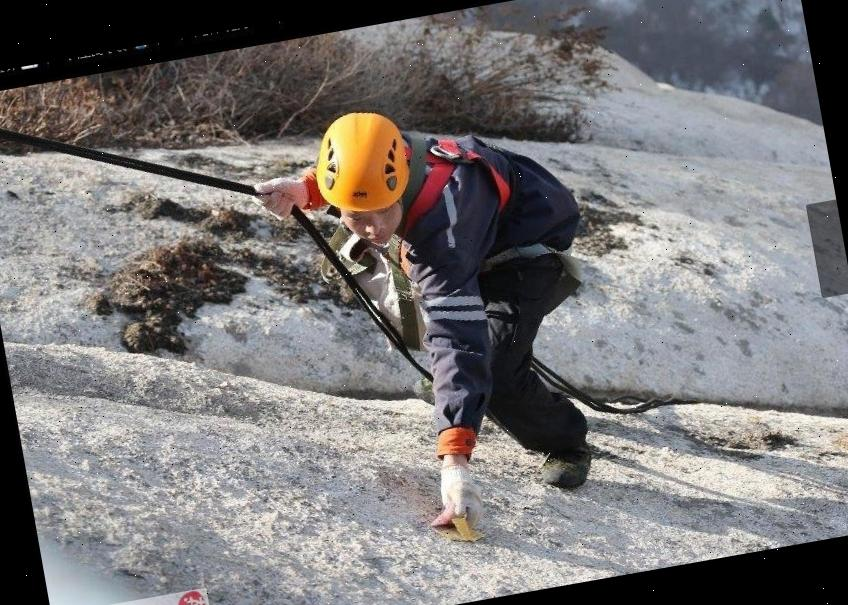helmet: (303, 100, 419, 218)
wear: (390, 138, 580, 330)
